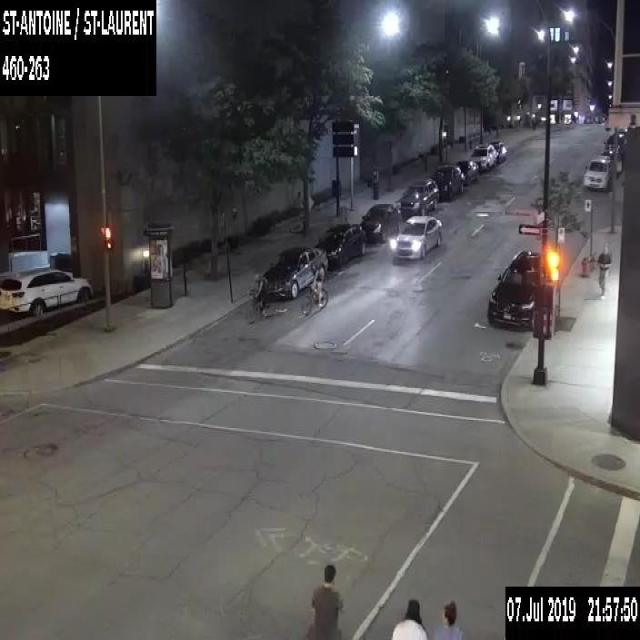cyclist: (300, 260, 328, 314), (245, 272, 275, 321)
pedestrian: (308, 558, 345, 638), (388, 596, 428, 639), (430, 598, 464, 639), (597, 240, 611, 300)
vehicle: (486, 248, 550, 331), (0, 266, 93, 315), (261, 245, 327, 299), (312, 222, 366, 266), (393, 214, 441, 258), (394, 177, 438, 219), (359, 202, 401, 242), (431, 164, 464, 199), (582, 154, 610, 190), (468, 143, 496, 170), (456, 159, 478, 183), (488, 140, 506, 163), (602, 136, 620, 157)
